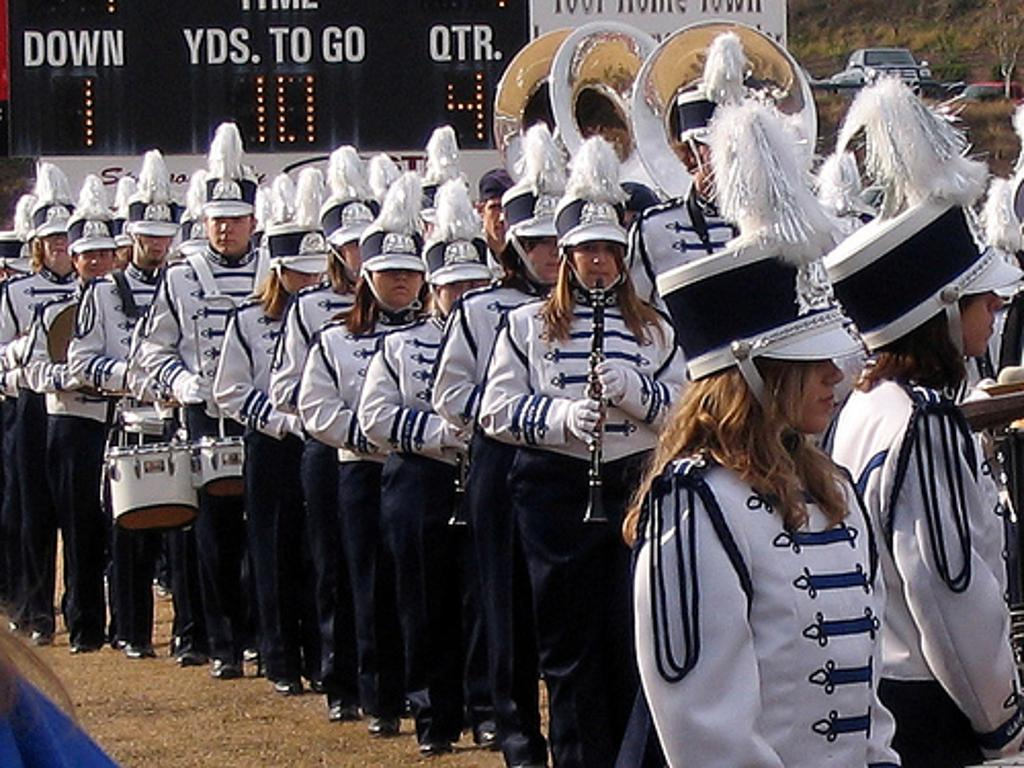face: (780, 328, 846, 433), (960, 263, 1003, 359), (439, 268, 491, 322), (371, 266, 423, 310), (572, 246, 624, 290), (206, 214, 253, 256), (530, 238, 573, 282), (483, 197, 521, 245), (340, 238, 377, 279), (75, 248, 115, 280), (39, 233, 75, 266), (139, 230, 173, 264), (283, 264, 321, 294), (117, 239, 137, 264)
